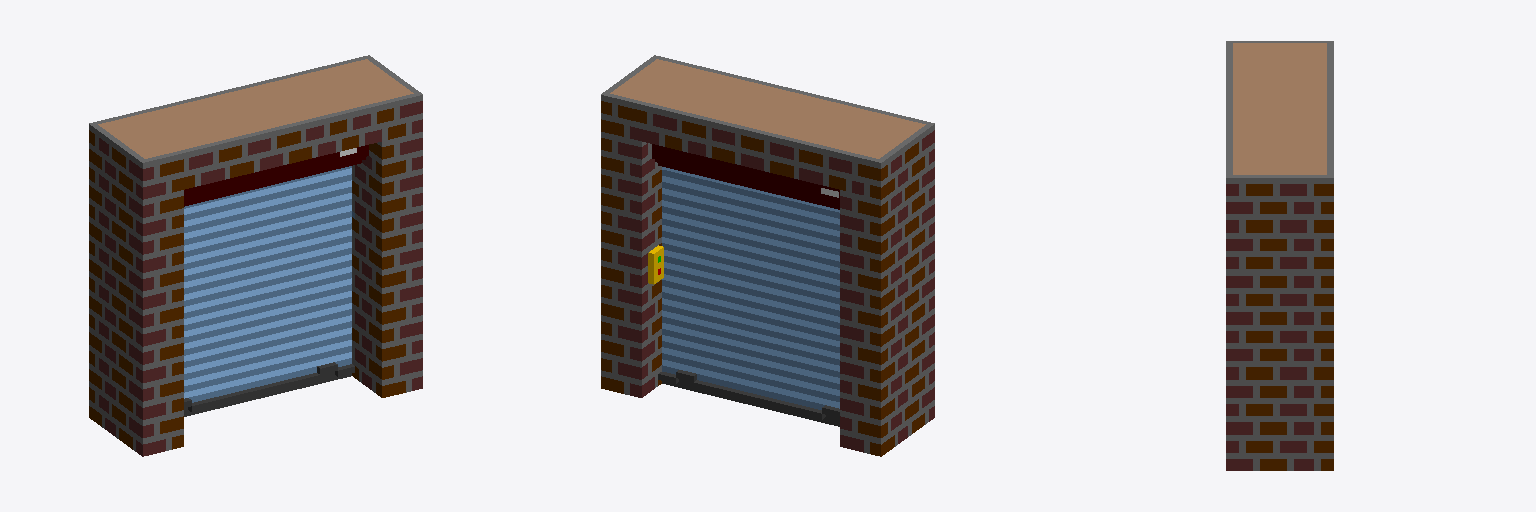
3 views of the same model, side by side, from view 1: azimuth 30°, elevation 25°; view 2: azimuth 150°, elevation 25°; view 3: azimuth 270°, elevation 25° (orthographic).
Parts seen in each view (by area): view 1: object 1; view 2: object 1; view 3: object 1.
Boxes of the visible parts, box(x1,y1,x2,y2) form: object 1: box(89, 55, 422, 456); object 1: box(601, 55, 934, 456); object 1: box(1226, 41, 1333, 470).
Bounding box in the file's own units: 4.8 × 4.8 × 1.6.
Materials: 1 (1 with a texture image).